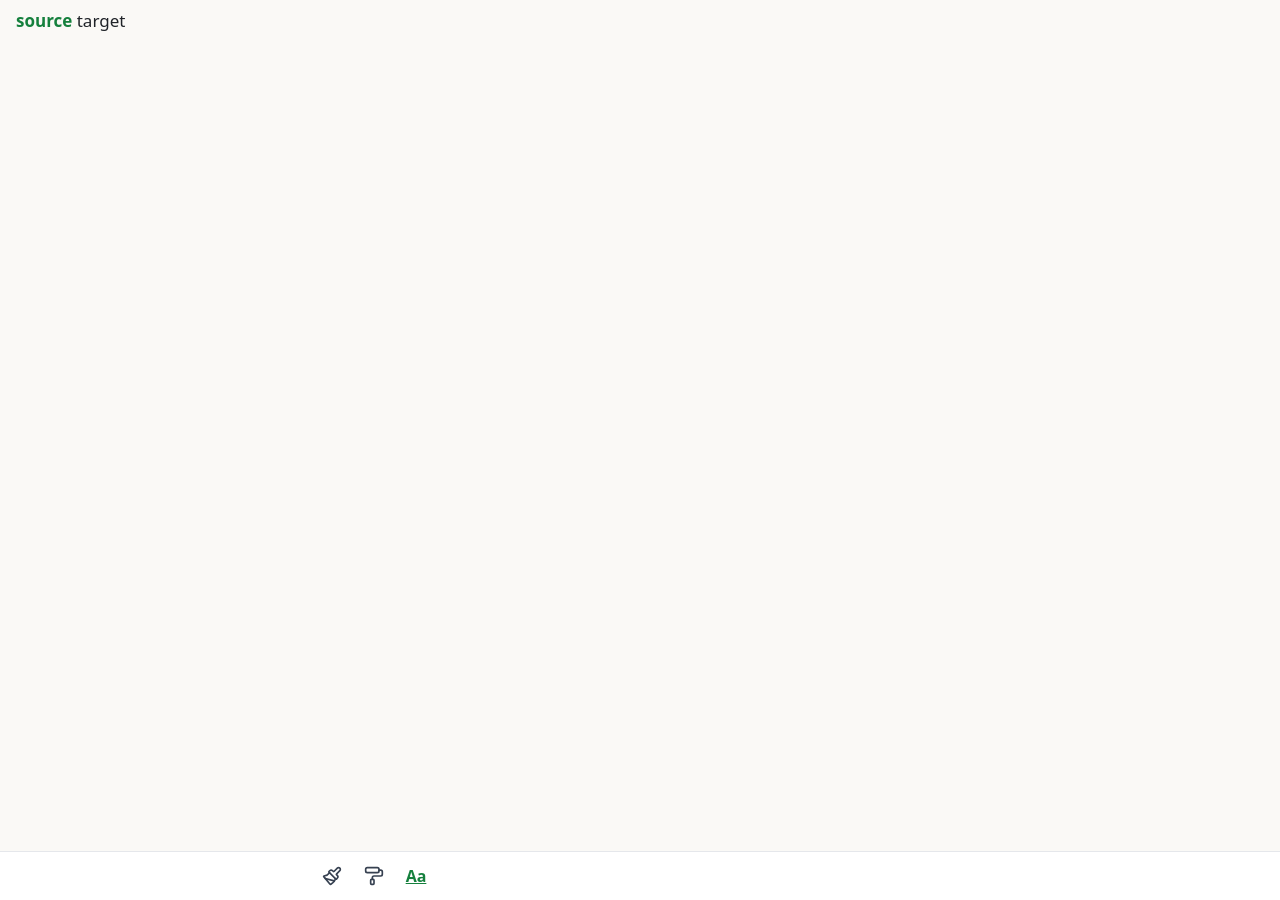
Test case: arms at the cursor and applies once from the toolbar without applying on selection change
The width and height of the screenshot is (1280, 900).
Press the mouse on the button named "Format painter" at coordinates (374, 876), box [354,856,394,896]
Click the button named "Format painter" at coordinates (374, 876), box [354,856,394,896]
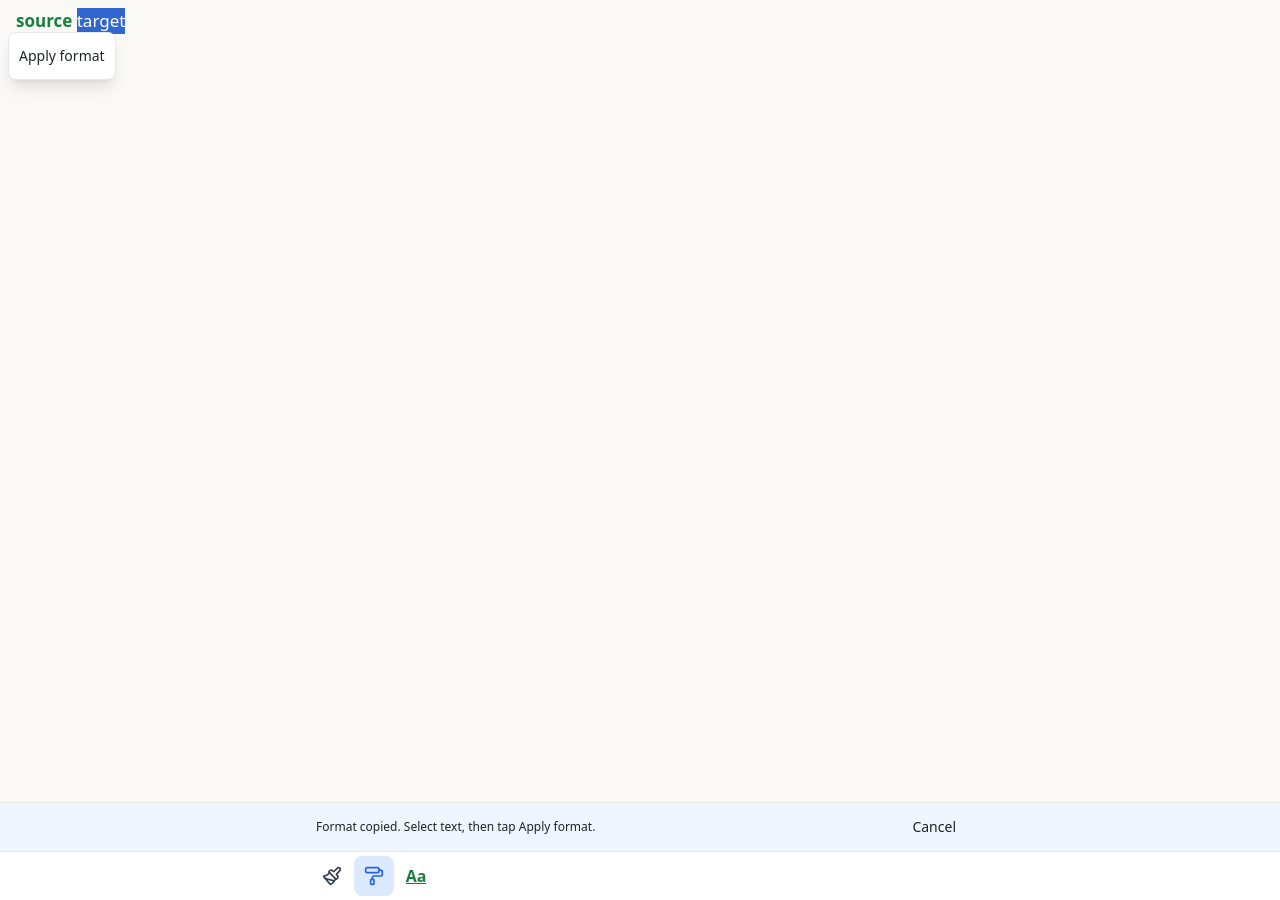
Result: the text "Format copied. Select text, then tap Apply format." is shown at [316,818,595,835]
Result: the button "Apply format" is shown at [11,35,113,75]
Press the mouse on the button named "Format painter" at coordinates (374, 876), box [354,856,394,896]
Click the button named "Format painter" at coordinates (374, 876), box [354,856,394,896]
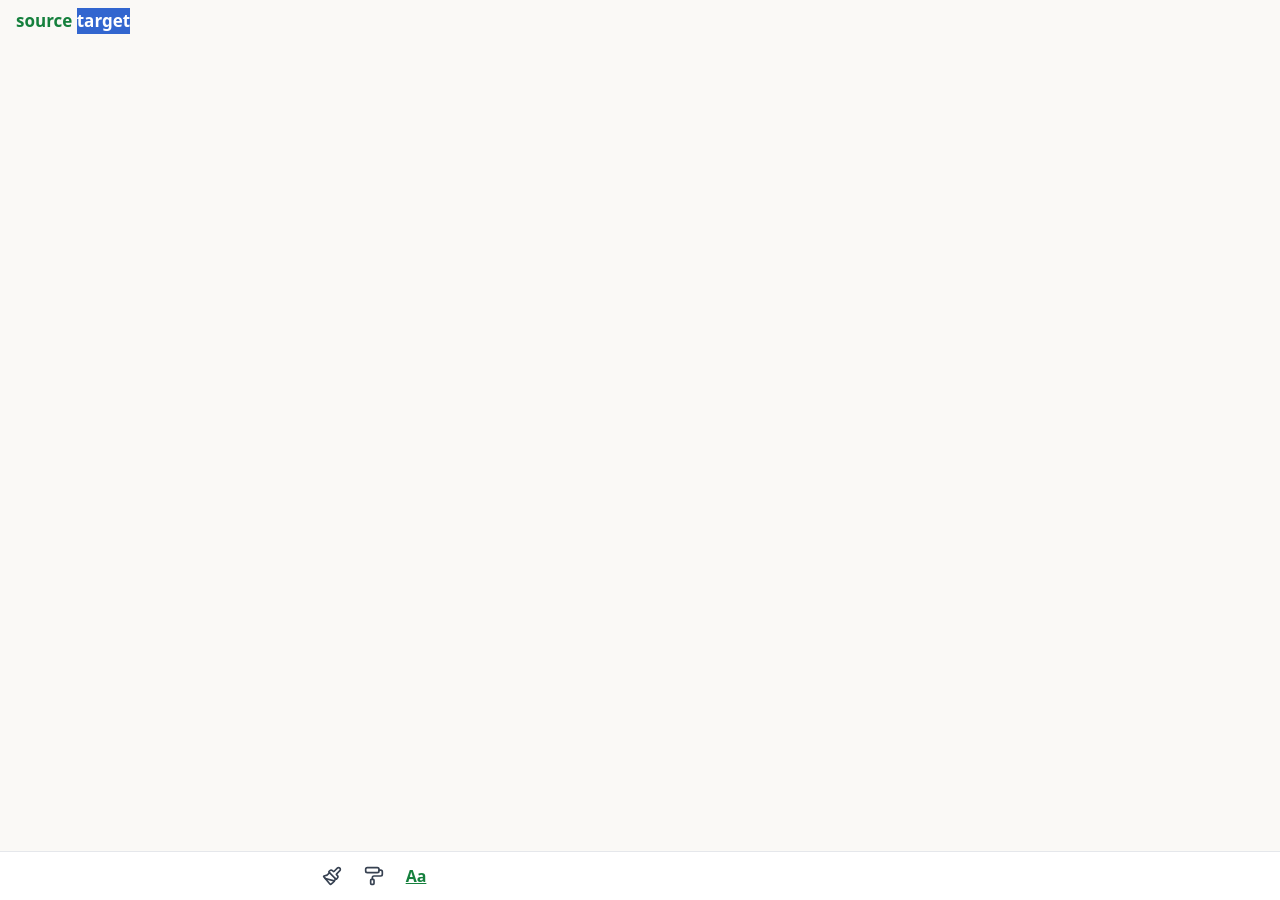
Result: the text "Format copied. Select text, then tap Apply format." is gone
Result: the button "Apply format" is gone
